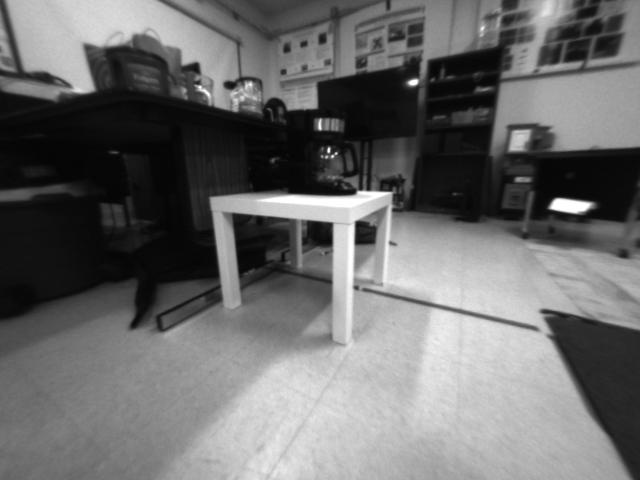coffee_pot: (284, 107, 359, 193)
